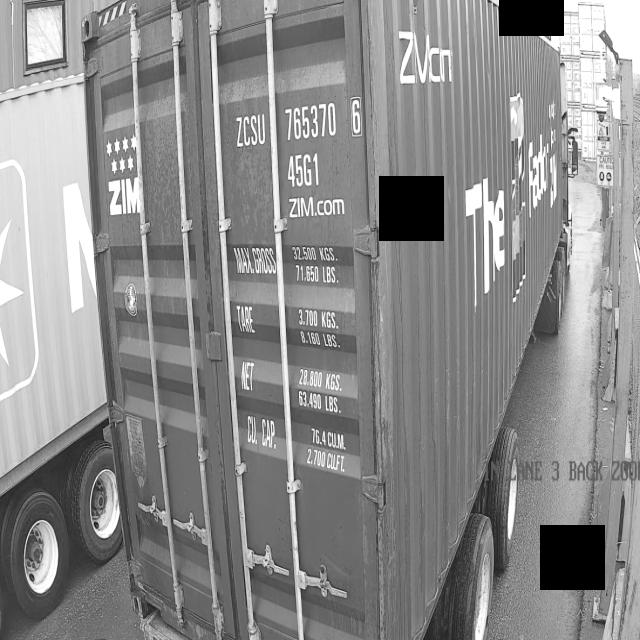container_company_logo: (101, 156, 147, 220)
container_number: (233, 107, 360, 188)
other_container_info: (234, 243, 358, 474)
truck_with_container: (81, 0, 574, 640)
